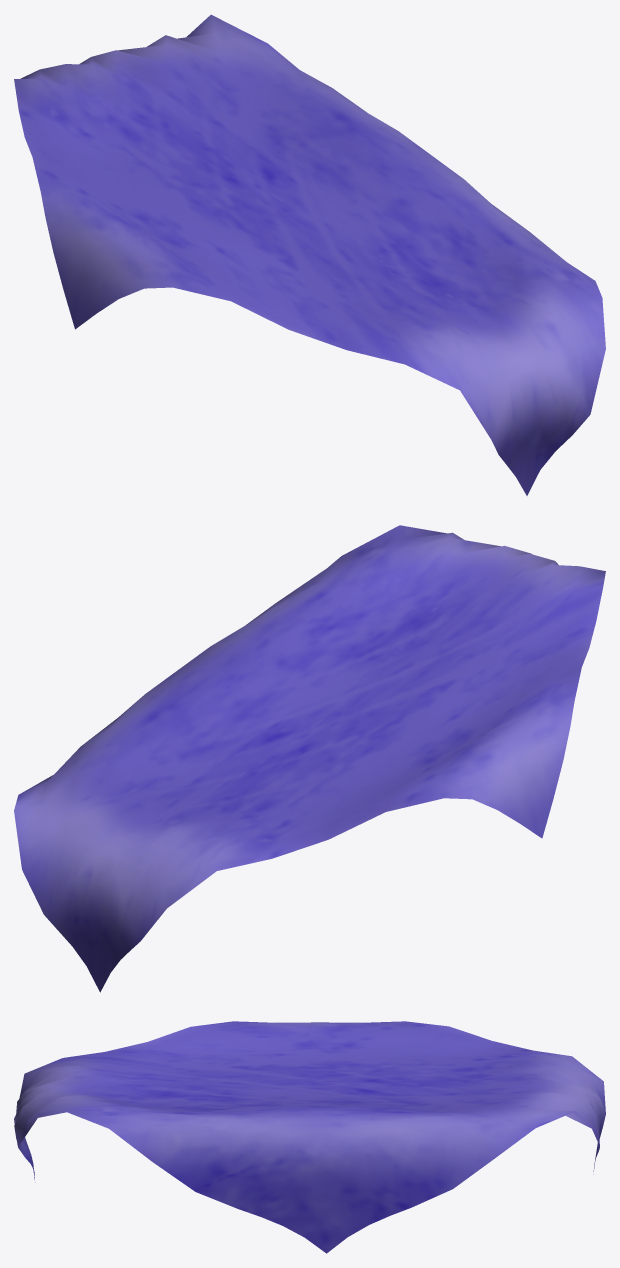
File: clothtable.fbx
3 views of the same model, one above another, from view 1: azimuth 30°, elevation 25°; view 2: azimuth 150°, elevation 25°; view 3: azimuth 270°, elevation 25° (orthographic). The views are drawn at different scales.
Parts seen in each view (by area): view 1: clothtable1; view 2: clothtable1; view 3: clothtable1.
Part boxes in pixels (left/top/right/bottom): clothtable1: left=14, top=14, right=605, bottom=495; clothtable1: left=14, top=525, right=605, bottom=992; clothtable1: left=14, top=1021, right=605, bottom=1253.
Bounding box in the file's own units: 471 × 222 × 951.
